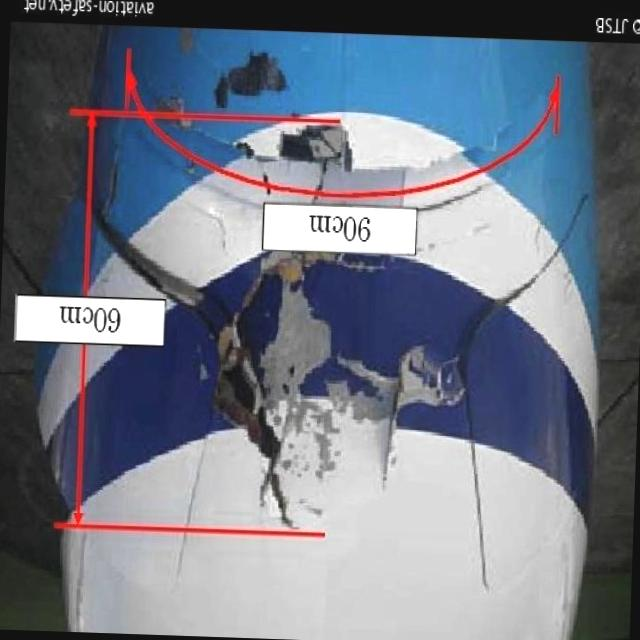crack: (87, 193, 308, 530), (377, 342, 422, 496)
